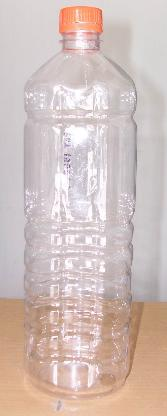Plastic Bottle: (22, 6, 138, 398)
